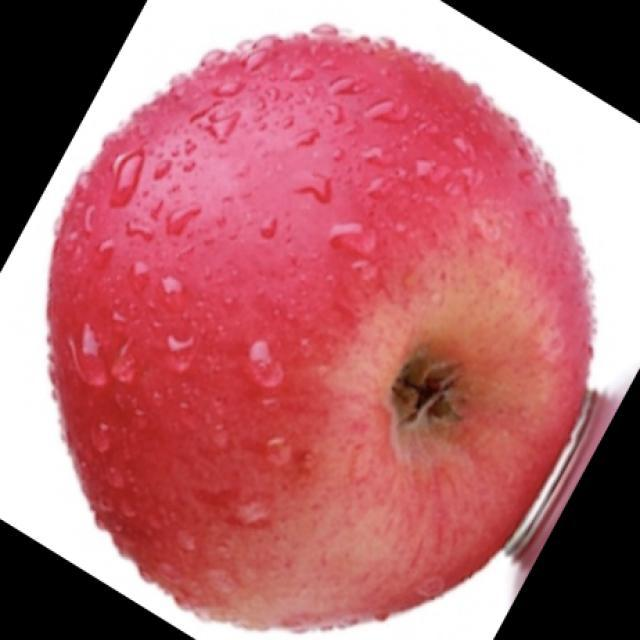Fresh Apple: (46, 23, 594, 631)
